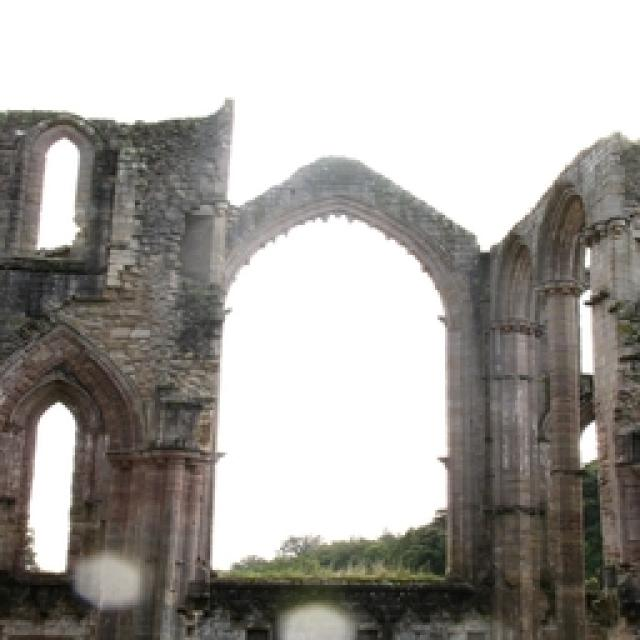Abbey: (197, 149, 513, 583)
